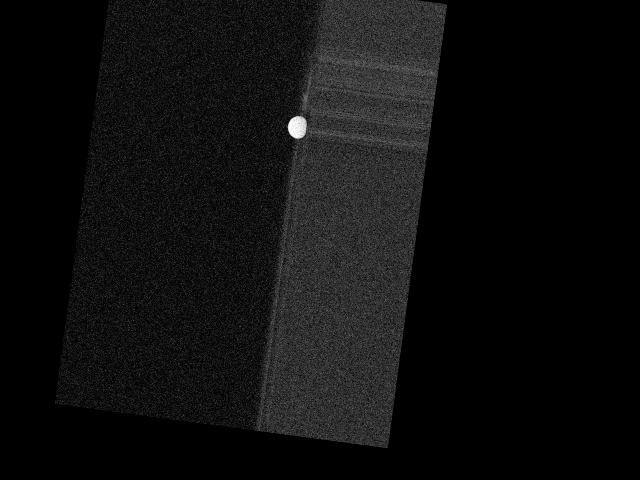egg: (286, 114, 307, 139)
